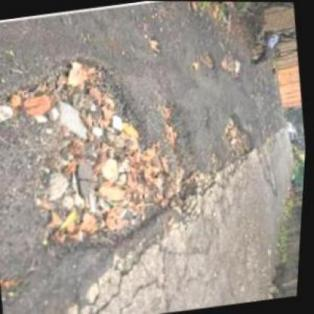Hueco: (0, 39, 217, 269), (219, 109, 260, 165), (221, 49, 247, 83), (201, 51, 219, 71)
